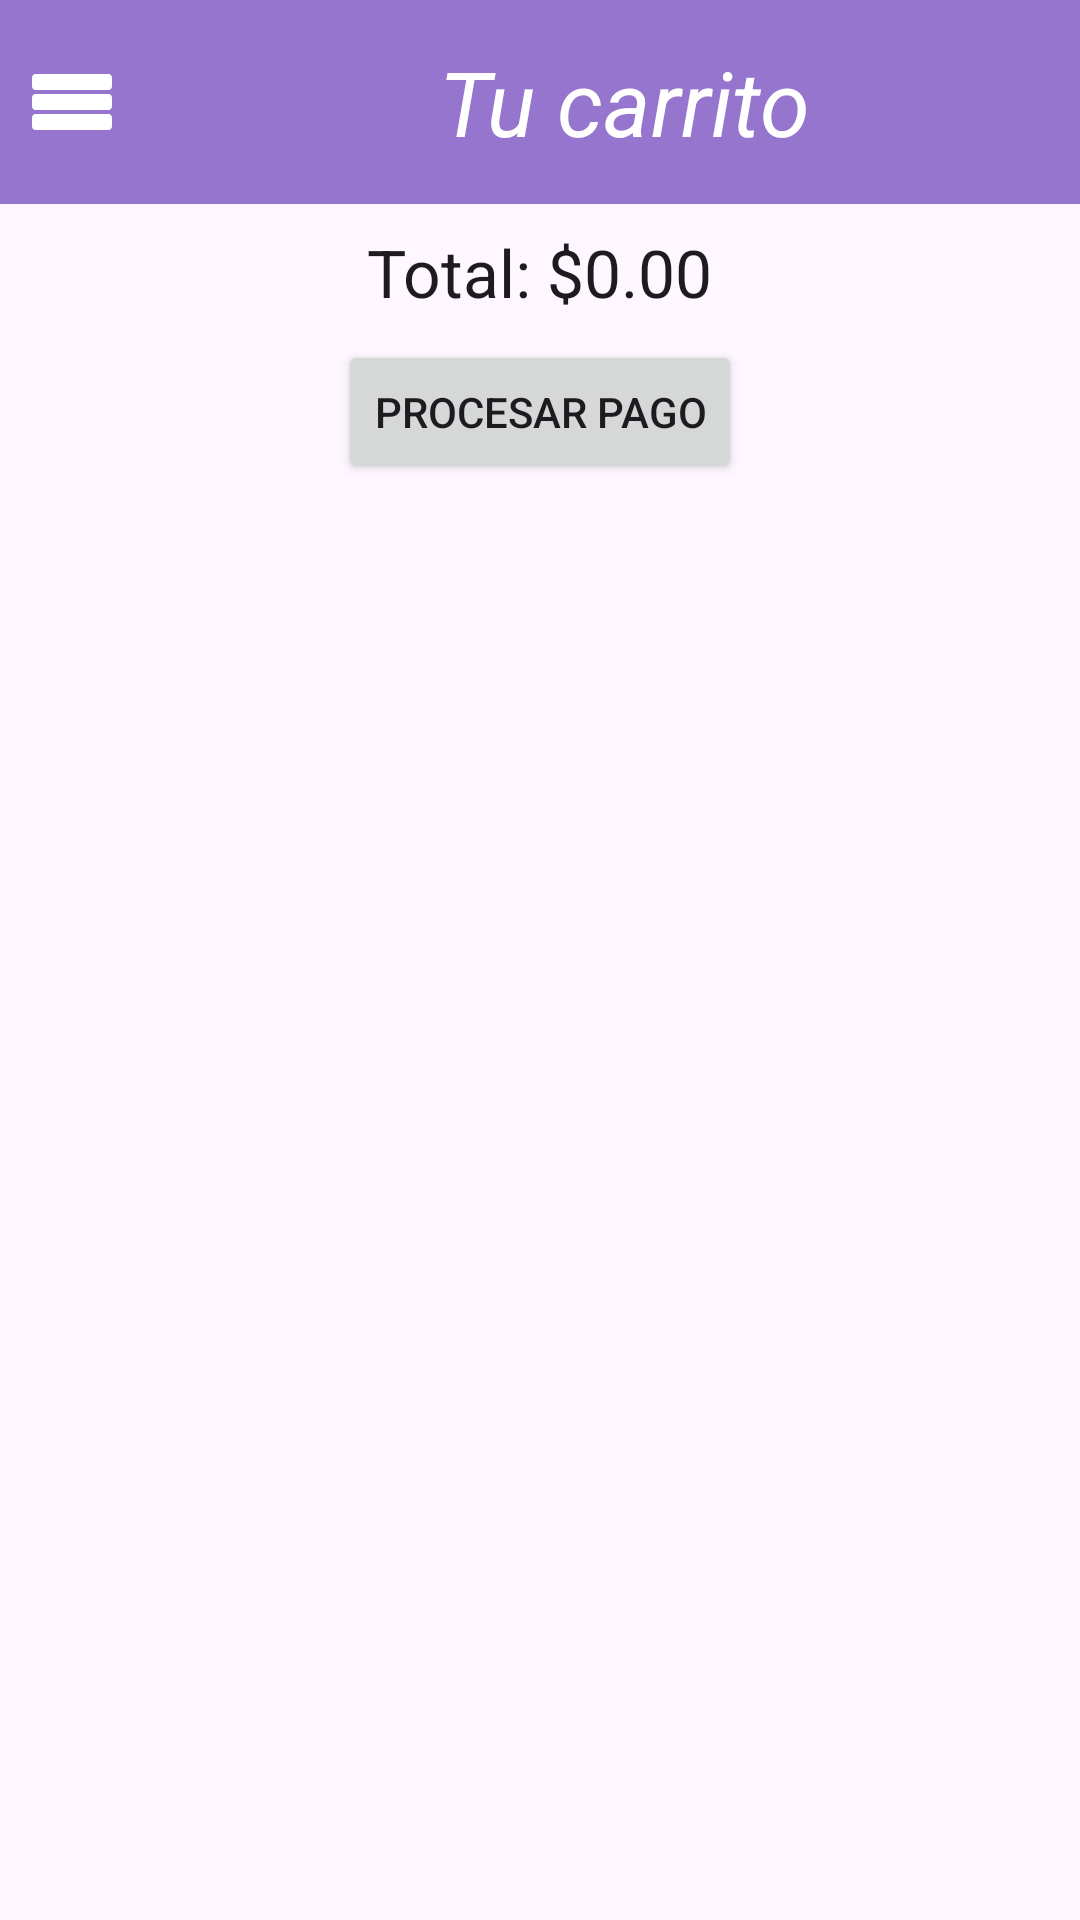

Icons on this 1080w x 1920h Android screen, each with its box as bbox(x1, y1, x2, y2):
menu: bbox(32, 74, 112, 130)
